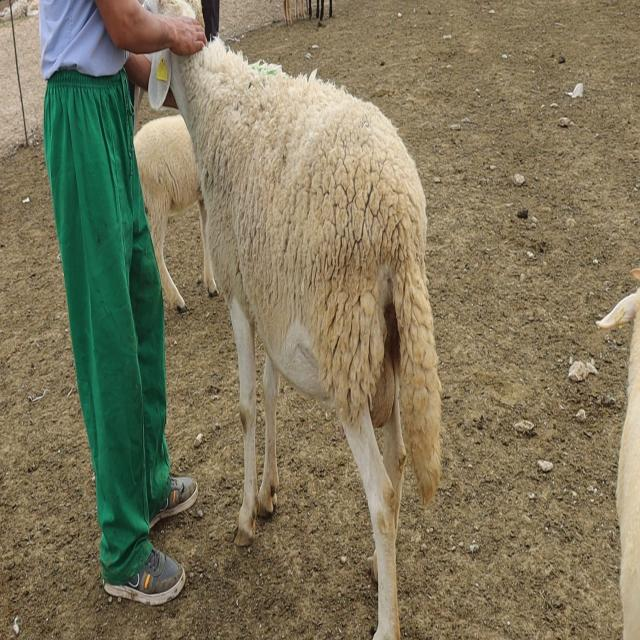Score_3: (147, 36, 441, 639)
